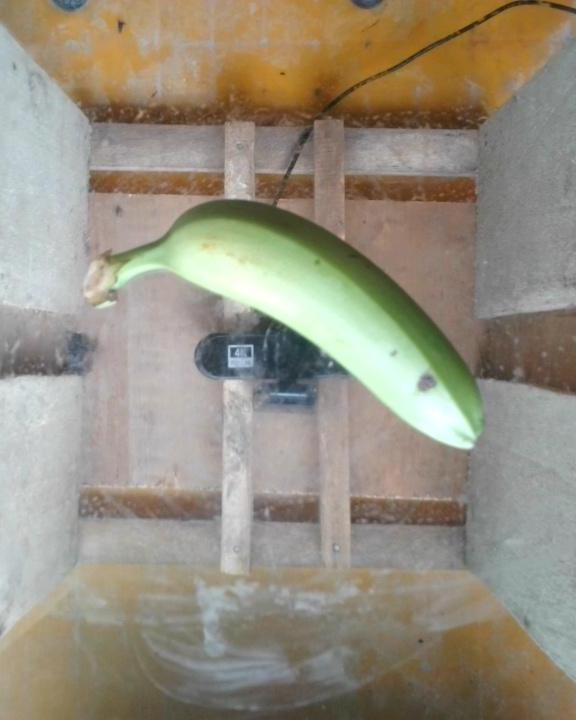CLASS B: (65, 183, 556, 475)
Class A: (395, 362, 446, 407)
